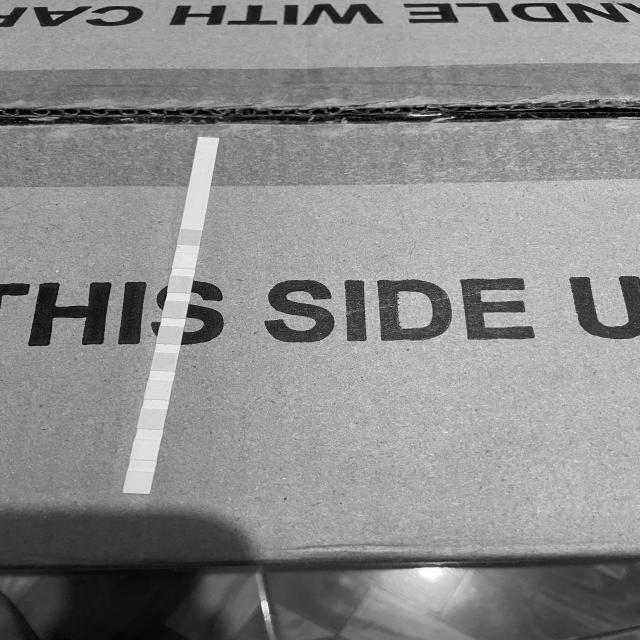Bilirubin: (176, 252, 195, 268)
Blood: (160, 326, 180, 344)
Glucose: (181, 230, 200, 245)
Ketone: (170, 276, 190, 292)
Leukocytes: (126, 472, 150, 493)
Nitrite: (135, 440, 156, 459)
Protein: (149, 381, 169, 399)
SpGravity: (166, 300, 186, 318)
Urobilinogen: (142, 409, 162, 428)
background: (0, 0, 640, 640)
pH: (155, 353, 175, 371)
strip: (122, 138, 219, 495)
